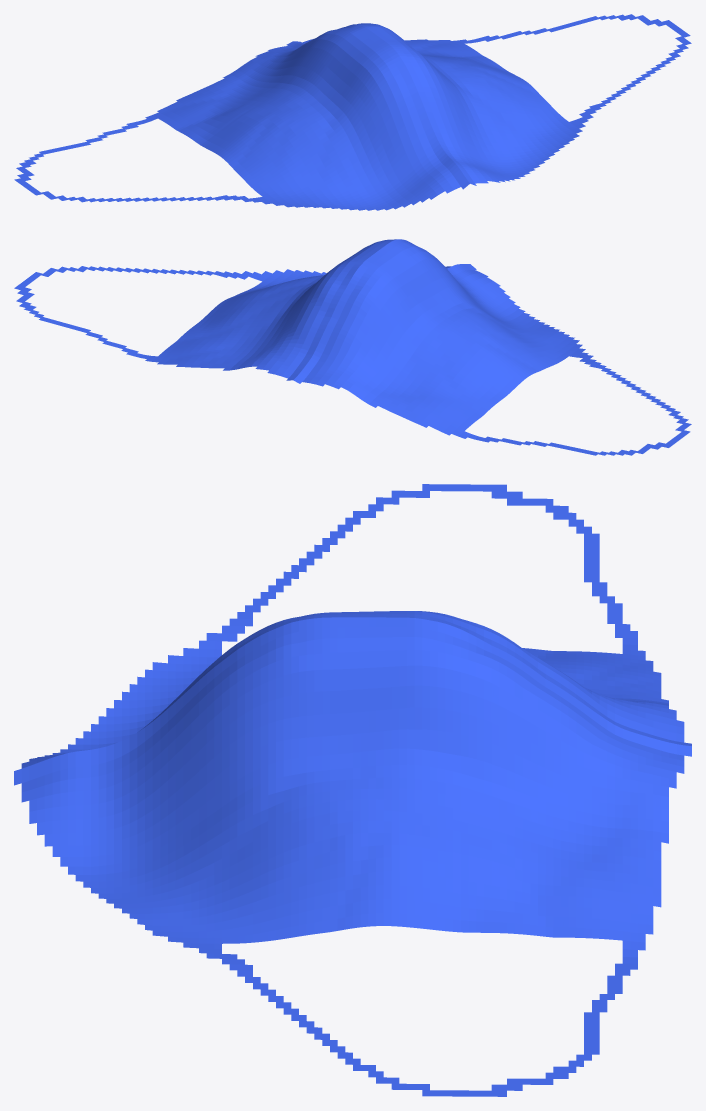
Rendered from blueMask.gltf.
The picture shows the model from 3 angles, top to bottom: view 1: azimuth 30°, elevation 25°; view 2: azimuth 150°, elevation 25°; view 3: azimuth 270°, elevation 25°; orthographic projection. The views are drawn at different scales.
Parts seen in each view (by area): view 1: Plane.001; view 2: Plane.001; view 3: Plane.001.
Boxes of the visible parts, <box> form: Plane.001: <box>14,14,691,210</box>; Plane.001: <box>14,239,691,455</box>; Plane.001: <box>14,484,691,1096</box>.
Bounding box in the file's own units: 7.83 × 1.15 × 3.67.
